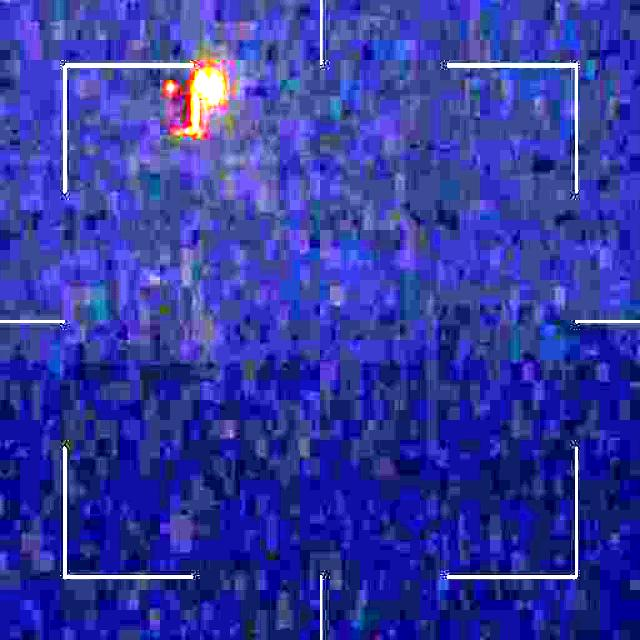bird: (159, 66, 238, 152)
